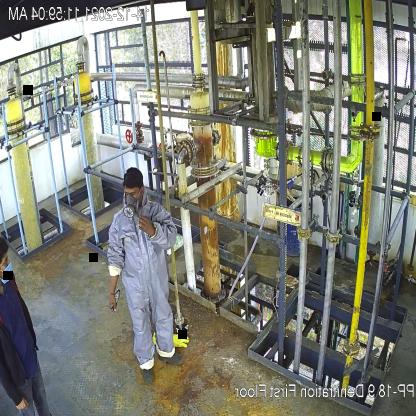mask: (123, 196, 139, 219)
no_glove: (102, 270, 118, 312), (136, 212, 153, 237)
no_goggles: (123, 189, 139, 199)
